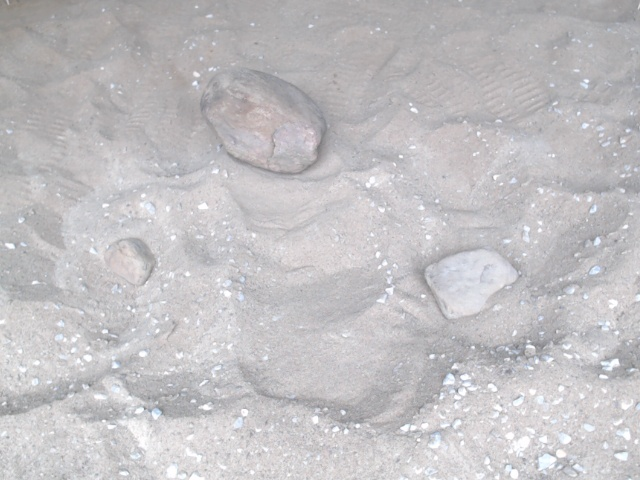rock: (195, 61, 331, 181), (418, 241, 524, 325), (99, 233, 157, 292)
